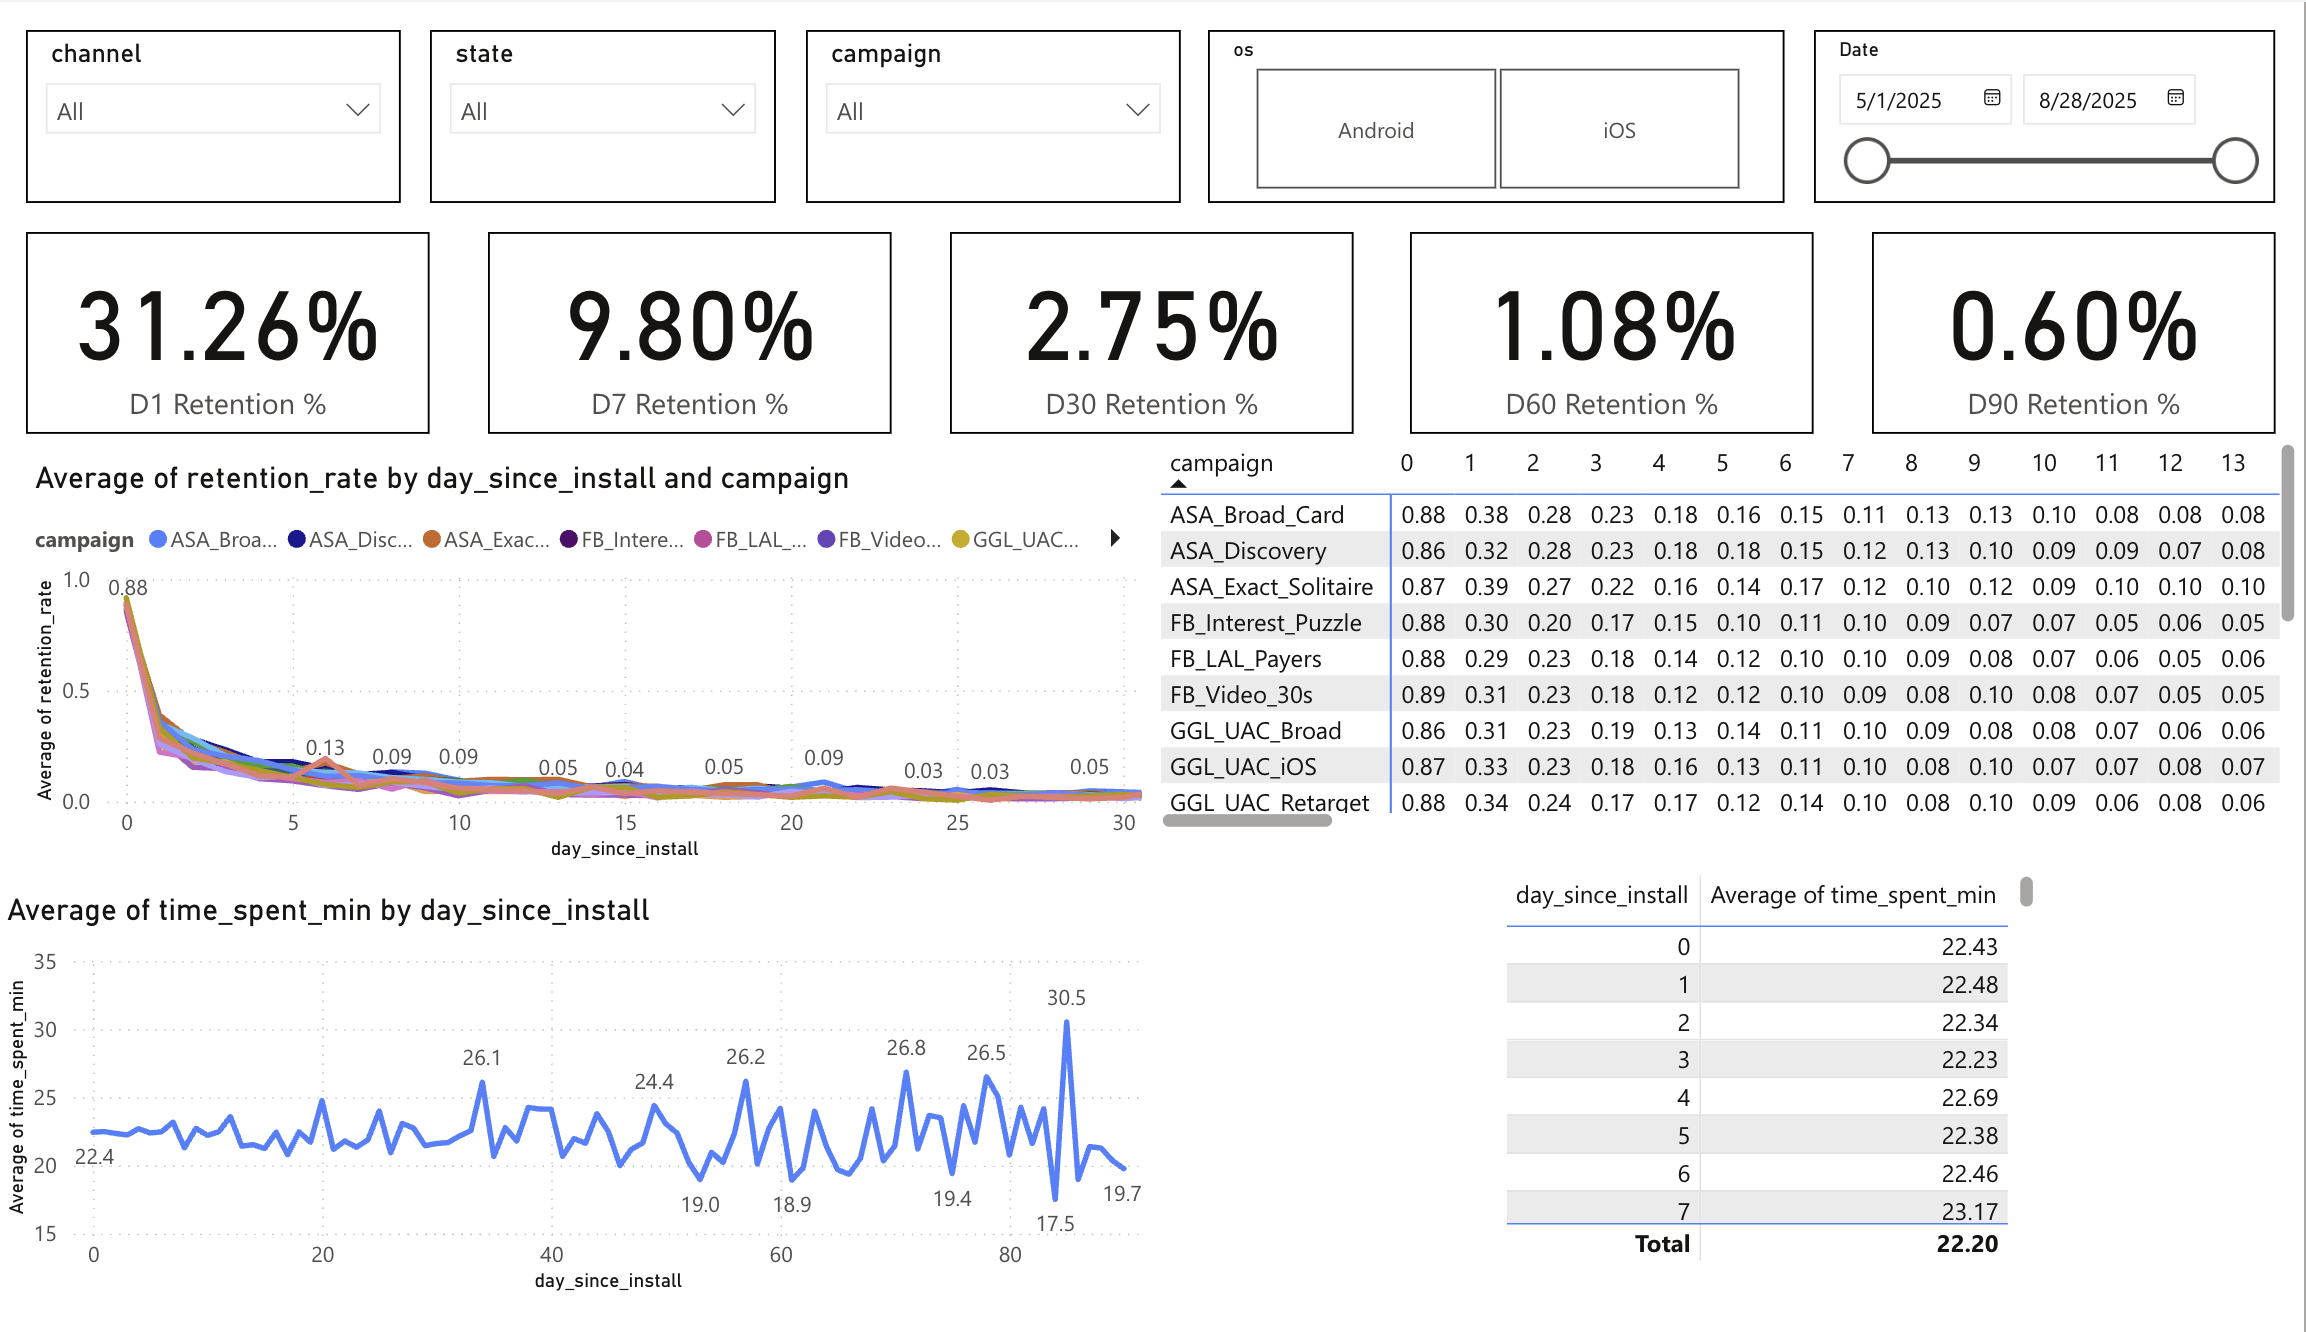

The dashboard page shown, as its layout file describes it:
{"tool":"powerbi","page":{"name":"Retention and Engagement","canvas":[1280,720],"ordinal":3},"visuals":[{"type":"slicer","fields":{"Values":["Date.Date"]},"box":[1008,16,256,96],"z":0},{"type":"slicer","fields":{"Values":["users.os"]},"box":[672,16,320,96],"z":1000},{"type":"slicer","fields":{"Values":["users.state"]},"box":[240,16,192,96],"z":2000},{"type":"slicer","fields":{"Values":["users.channel"]},"box":[16,16,208,96],"z":3000},{"type":"slicer","fields":{"Values":["users.campaign"]},"box":[448,16,208,96],"z":4000},{"type":"card","fields":{"Values":["measure.D1 Retention %"]},"box":[16,128,224,112],"z":5000},{"type":"lineChart","fields":{"Category":["campaign_retention_arpdau.day_since_install"],"Y":["Avg(campaign_retention_arpdau.retention_rate)"],"Series":["campaign_retention_arpdau.campaign"]},"box":[16,256,624,224],"z":6000},{"type":"lineChart","fields":{"Category":["campaign_retention_arpdau.day_since_install"],"Y":["Avg(campaign_retention_arpdau.time_spent_min)"]},"box":[0,496,640,224],"z":7000},{"type":"pivotTable","fields":{"Rows":["campaign_retention_arpdau.campaign"],"Columns":["campaign_retention_arpdau.day_since_install"],"Values":["Avg(campaign_retention_arpdau.retention_rate)"]},"box":[640,240,640,224],"z":8000},{"type":"card","fields":{"Values":["measure.D7 Retention %"]},"box":[272,128,224,112],"z":9000},{"type":"card","fields":{"Values":["measure.D30 Retention %"]},"box":[528,128,224,112],"z":10000},{"type":"card","fields":{"Values":["measure.D60 Retention %"]},"box":[784,128,224,112],"z":11000},{"type":"card","fields":{"Values":["measure.D90 Retention %"]},"box":[1040,128,224,112],"z":12000},{"type":"tableEx","fields":{"Values":["campaign_retention_arpdau.day_since_install","Avg(campaign_retention_arpdau.time_spent_min)"]},"box":[832,480,304,224],"z":13000}]}

Visuals, with their boxes in screenshot pixels (x1, y1, x2, y2), scaled from the page's 1280x720 canvas onto the 2306x1332 screenshot:
slicer - Date.Date: (1816,30,2277,207)
slicer - users.os: (1211,30,1787,207)
slicer - users.state: (432,30,778,207)
slicer - users.channel: (29,30,404,207)
slicer - users.campaign: (807,30,1182,207)
card - measure.D1 Retention %: (29,237,432,444)
lineChart - campaign_retention_arpdau.day_since_install x Avg(campaign_retention_arpdau.retention_rate): (29,474,1153,888)
lineChart - campaign_retention_arpdau.day_since_install x Avg(campaign_retention_arpdau.time_spent_min): (0,918,1153,1331)
pivotTable - campaign_retention_arpdau.campaign x campaign_retention_arpdau.day_since_install: (1153,444,2305,858)
card - measure.D7 Retention %: (490,237,894,444)
card - measure.D30 Retention %: (951,237,1355,444)
card - measure.D60 Retention %: (1412,237,1816,444)
card - measure.D90 Retention %: (1874,237,2277,444)
tableEx - campaign_retention_arpdau.day_since_install x Avg(campaign_retention_arpdau.time_spent_min): (1499,888,2047,1302)
